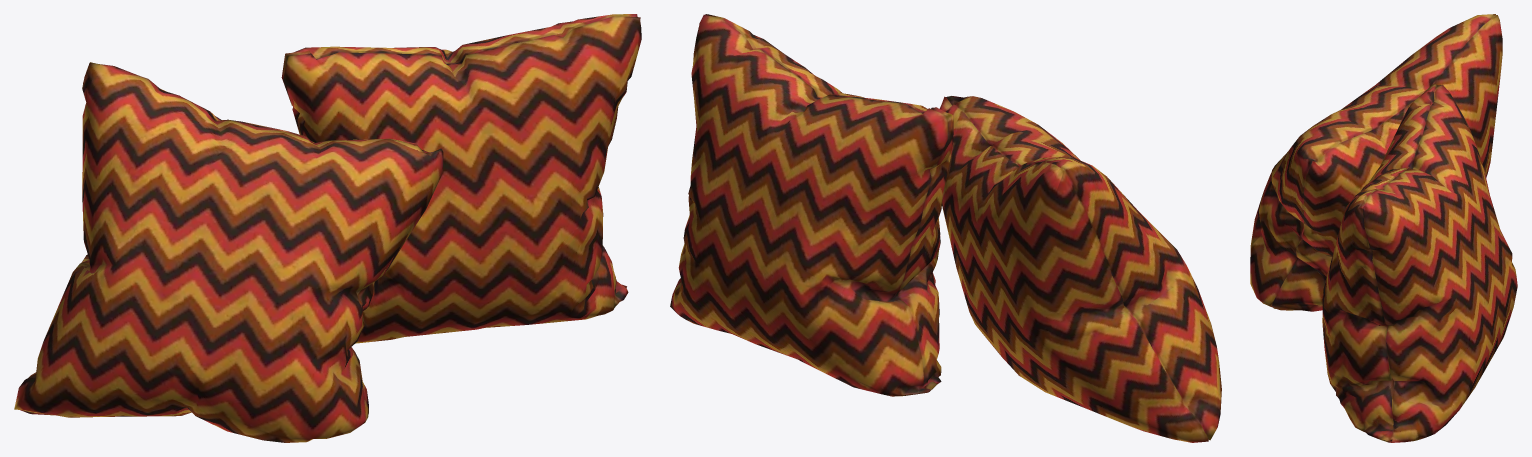
File: throw_pillows_01.glb
3 views of the same model, side by side, from view 1: azimuth 30°, elevation 25°; view 2: azimuth 150°, elevation 25°; view 3: azimuth 270°, elevation 25° (orthographic). The views are drawn at different scales.
Parts seen in each view (by area): view 1: throw_pillows_01_pillow02; view 2: throw_pillows_01_pillow02; view 3: throw_pillows_01_pillow02.
Boxes of the visible parts, left/top/right/bottom form: throw_pillows_01_pillow02: left=14, top=14, right=641, bottom=442; throw_pillows_01_pillow02: left=670, top=14, right=1221, bottom=442; throw_pillows_01_pillow02: left=1250, top=14, right=1517, bottom=442.
Size of the model in its own units: 0.9401 by 0.4499 by 0.4504.
Materials: 1 (1 with a texture image).
